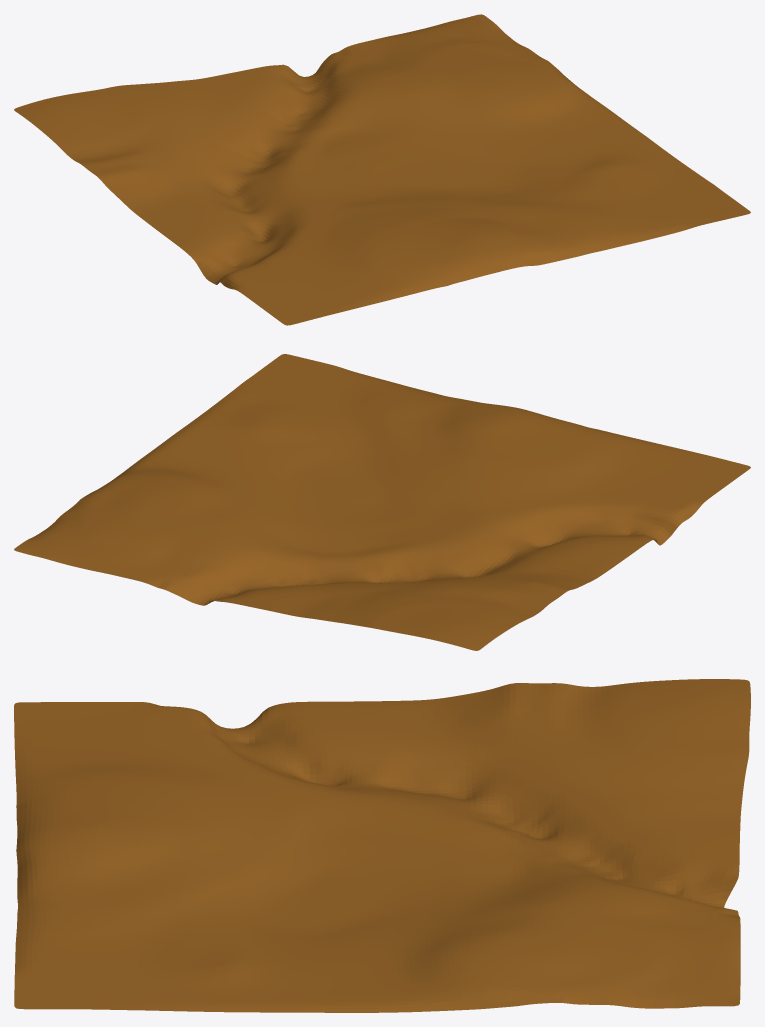
Rendered from terrain.fbx.
3 views of the same model, one above another, from view 1: azimuth 30°, elevation 25°; view 2: azimuth 150°, elevation 25°; view 3: azimuth 270°, elevation 25° (orthographic). The views are drawn at different scales.
Parts seen in each view (by area): view 1: Terrain; view 2: Terrain; view 3: Terrain.
Part boxes in pixels (x1,y1,x2,y2): Terrain: (14,14,750,325); Terrain: (14,354,750,650); Terrain: (14,679,750,1012).
Bounding box in the file's own units: 12225 × 901 × 12369.
